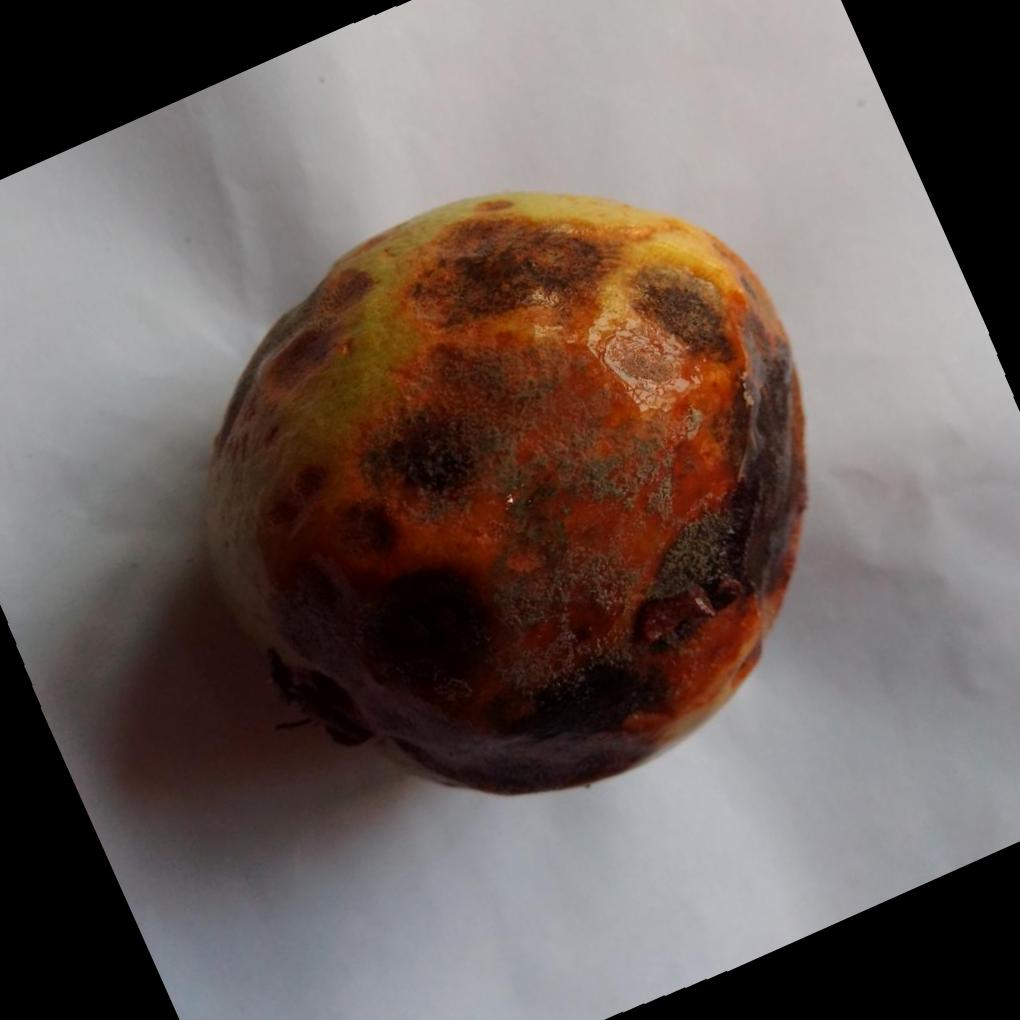FreshOrange: (198, 184, 808, 795)
